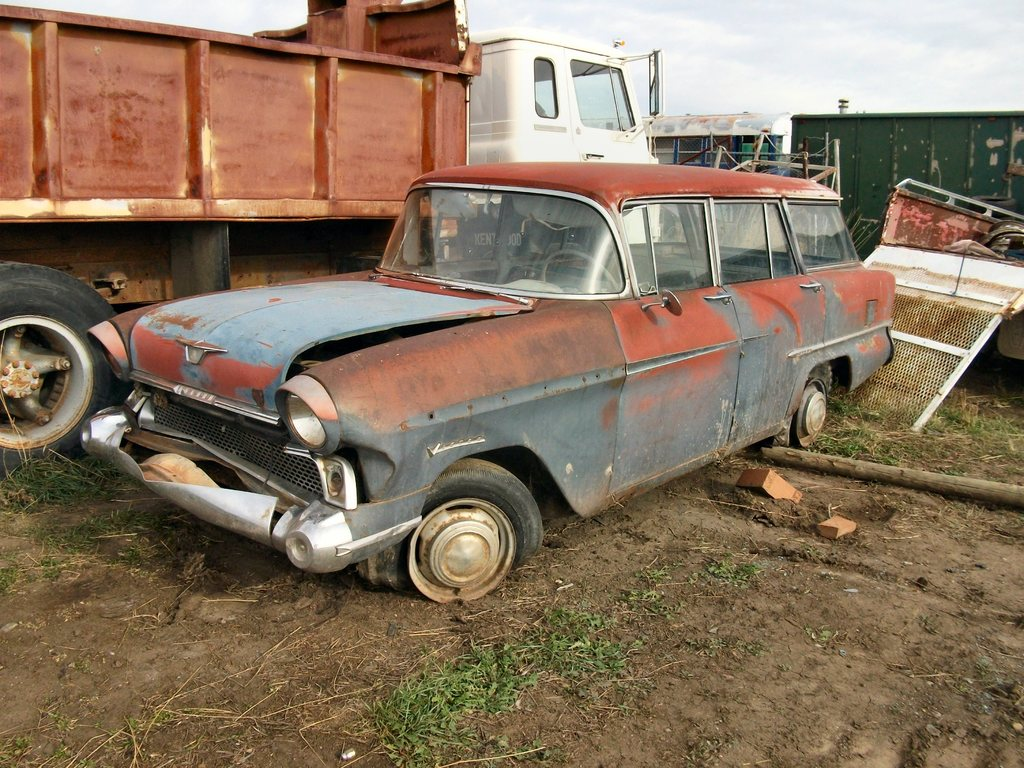Car: (45, 138, 890, 612)
